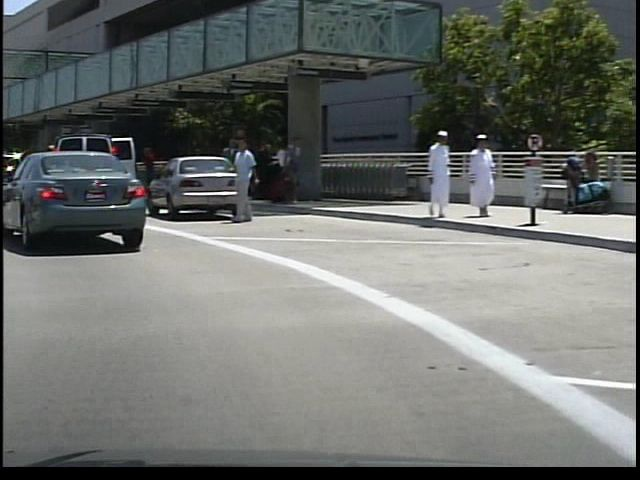person: (224, 132, 260, 229), (458, 129, 493, 221), (418, 126, 450, 220), (274, 134, 301, 208), (135, 142, 158, 206)
